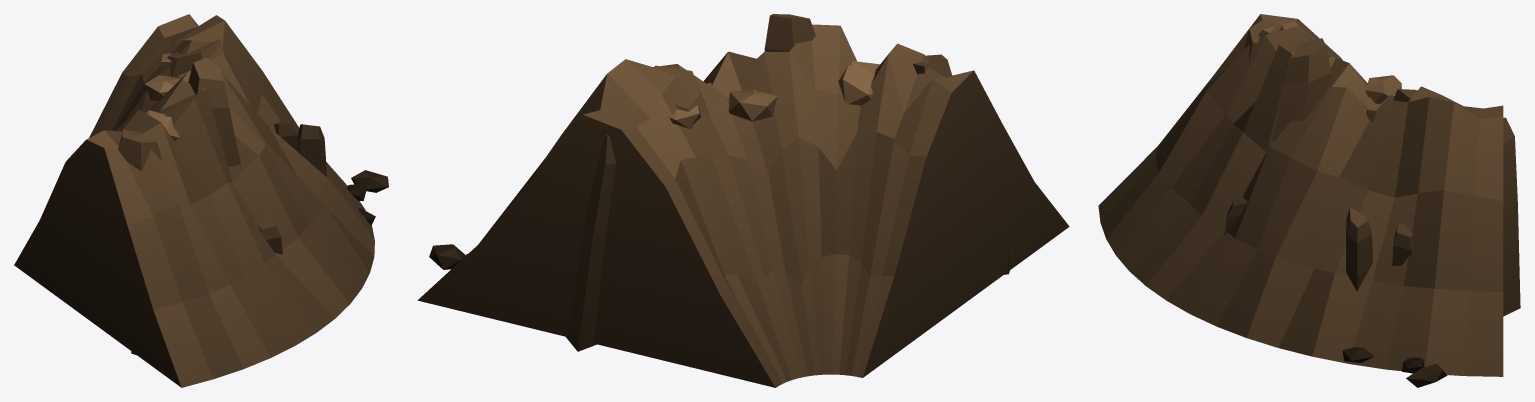
File: cliff-outer.glb
The picture shows the model from 3 angles, left to right: view 1: azimuth 30°, elevation 25°; view 2: azimuth 150°, elevation 25°; view 3: azimuth 270°, elevation 25°; orthographic projection. The views are drawn at different scales.
Parts seen in each view (by area): view 1: cliff-outer; view 2: cliff-outer; view 3: cliff-outer.
Boxes of the visible parts, x1,y1,x2,y2 form: cliff-outer: (14,14,388,387); cliff-outer: (417,14,1069,387); cliff-outer: (1098,14,1520,387).
Bounding box in the file's own units: 4.05 × 2.35 × 3.91.
